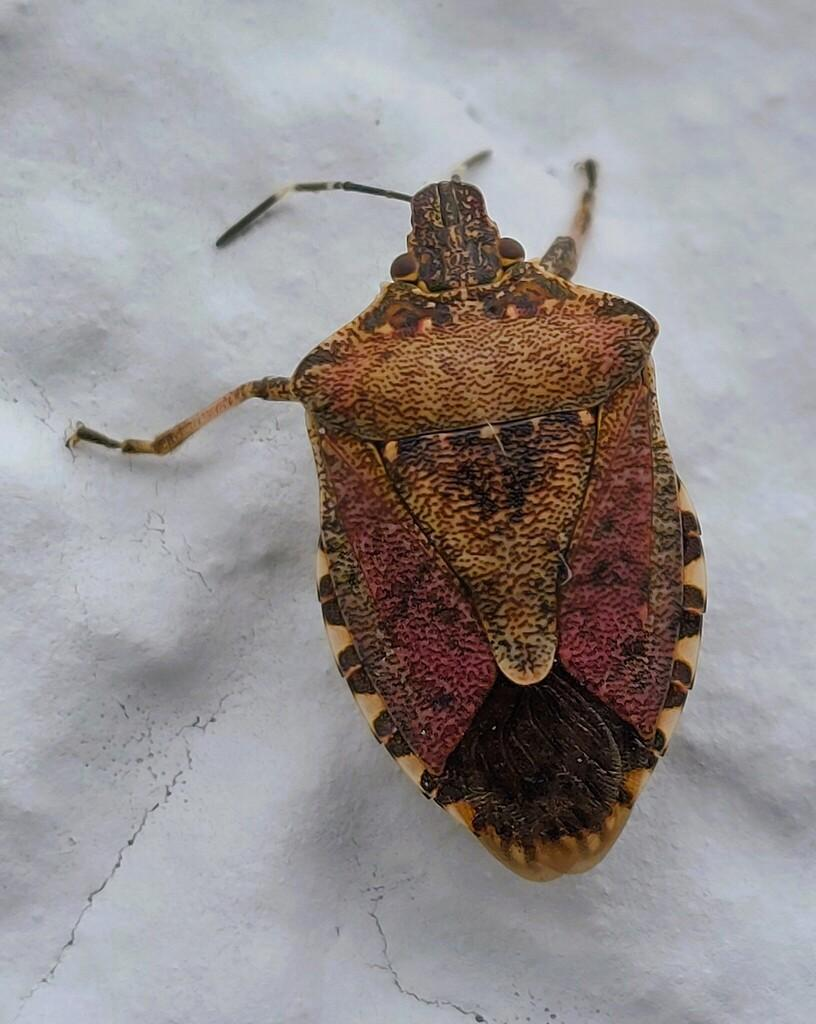stink_bugs: (0, 94, 816, 957)
